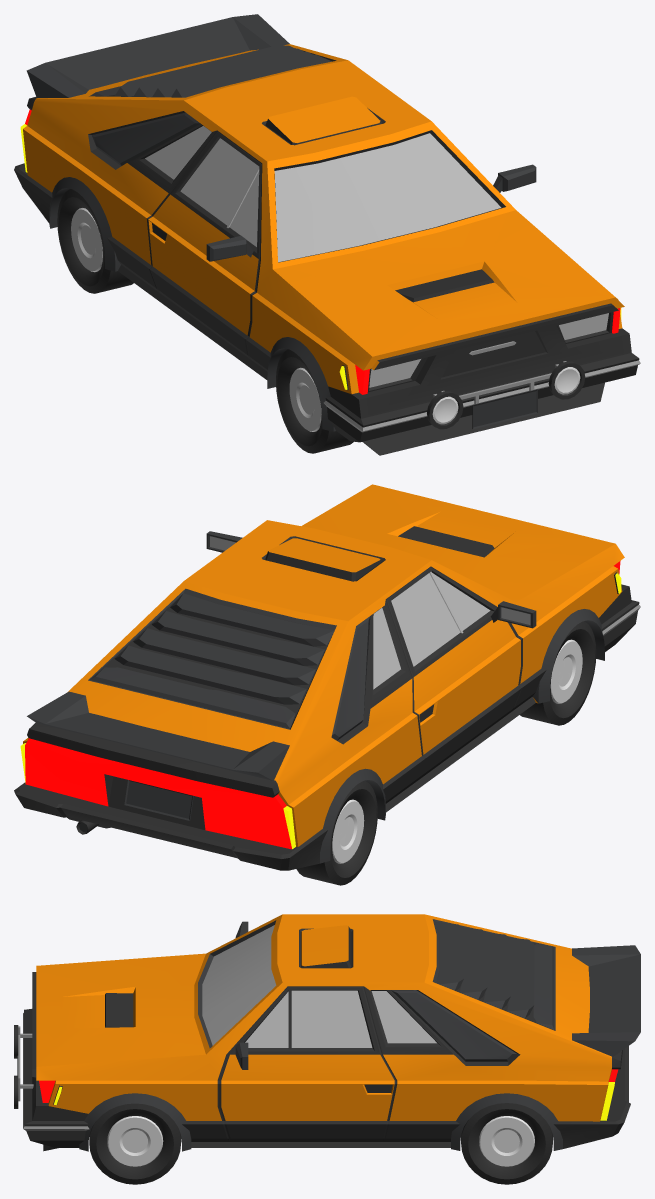
File: car2.fbx
3 views of the same model, one above another, from view 1: azimuth 30°, elevation 25°; view 2: azimuth 150°, elevation 25°; view 3: azimuth 270°, elevation 25° (orthographic). The views are drawn at different scales.
Visible parts, largest first — view 1: car2, car2_wheels_b, car2_wheels_f, car2.001; view 2: car2, car2_wheels_b, car2_wheels_f; view 3: car2, car2_wheels_b, car2_wheels_f.
Part boxes in pixels (x1,y1,x2,y2): car2: (14, 14, 640, 455); car2_wheels_b: (57, 189, 133, 293); car2_wheels_f: (276, 349, 353, 453); car2.001: (427, 361, 585, 429); car2: (14, 484, 640, 870); car2_wheels_b: (67, 780, 377, 885); car2_wheels_f: (520, 621, 596, 725); car2: (17, 914, 640, 1151); car2_wheels_b: (461, 1103, 552, 1184); car2_wheels_f: (89, 1103, 181, 1184).
Size of the model in its own units: 321 by 206 by 628.
